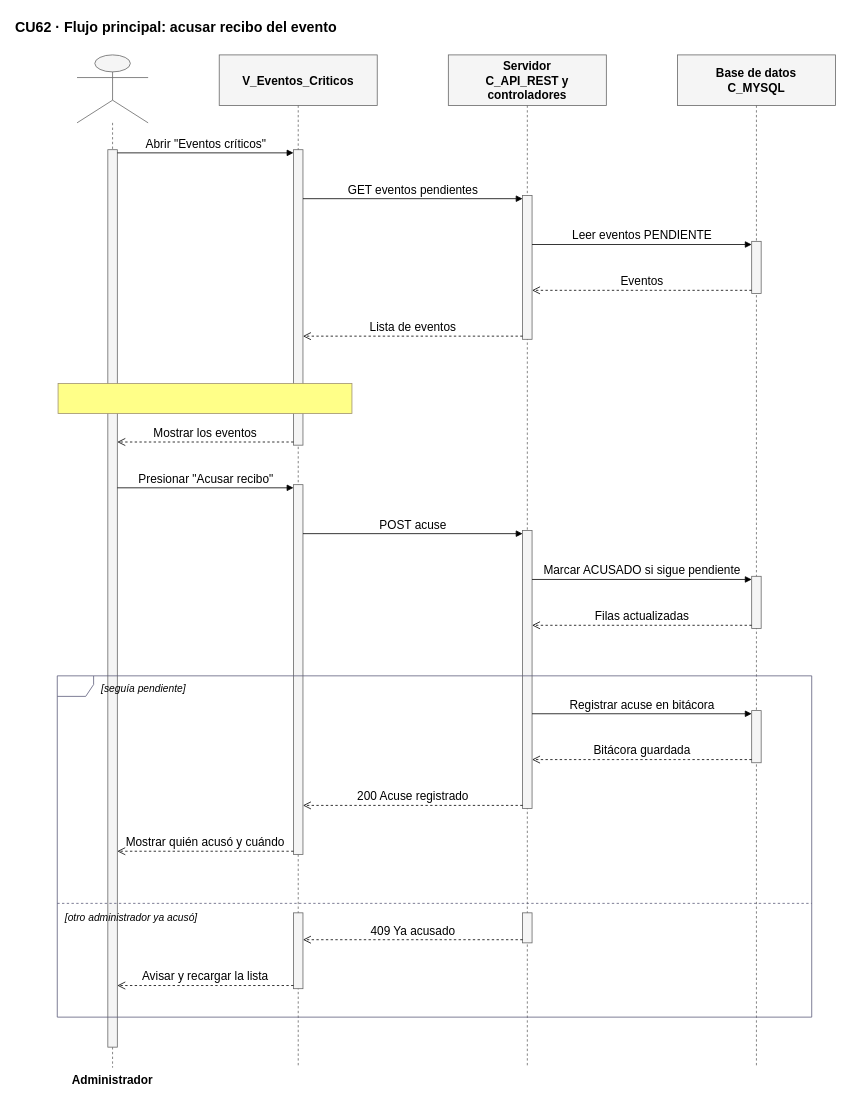
Image size: 849x1100. Some labels were removed from this diagram. Here are the shapes that lost their labels. From the top down, the centre of each, then its label:
pixel 204 398: La bandeja se actualiza sola cada 15 segundos
pixel 434 846: alt
